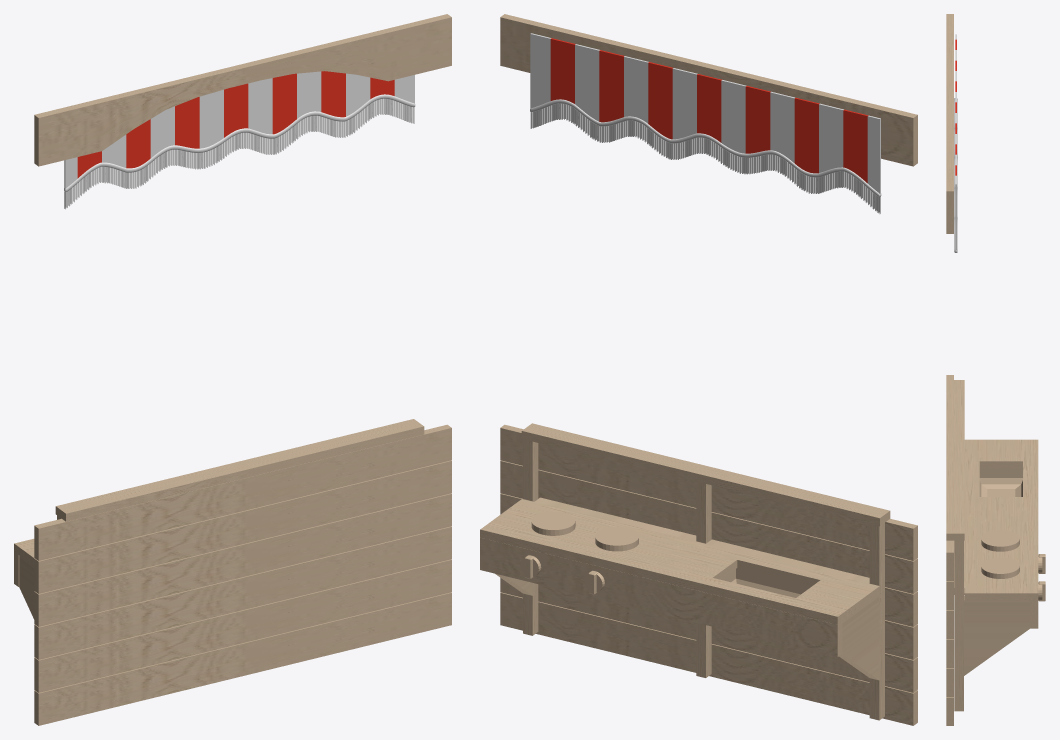
3 views of the same model, side by side, from view 1: azimuth 30°, elevation 25°; view 2: azimuth 150°, elevation 25°; view 3: azimuth 270°, elevation 25° (orthographic). The views are drawn at different scales.
Visible parts, largest first — view 1: Cube216,_colorize_, Cube216_1, Cube216_2, Cube216_3; view 2: Cube216,_colorize_, Cube216_1, Cube216_2, Cube216_3; view 3: Cube216,_colorize_, Cube216_1.
Boxes of the visible parts, x1,y1,x2,y2 form: Cube216,_colorize_: (14,14,451,725); Cube216_1: (64,71,415,191); Cube216_2: (77,71,394,178); Cube216_3: (64,98,414,209); Cube216,_colorize_: (480,14,917,725); Cube216_1: (530,33,881,196); Cube216_2: (550,38,868,183); Cube216_3: (530,103,880,213); Cube216,_colorize_: (946,14,1045,725); Cube216_1: (954,34,957,252).
Size of the model in its own units: 1.36 by 1.91 by 0.3227.
Materials: 4 (2 with a texture image).
